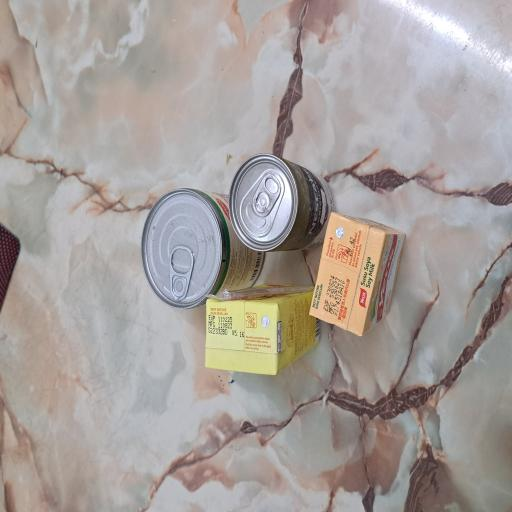can: (152, 186, 243, 352), (196, 302, 270, 443)
drink carton: (103, 272, 173, 428), (131, 412, 225, 512)
pop tab: (158, 222, 202, 262), (217, 334, 256, 379)
